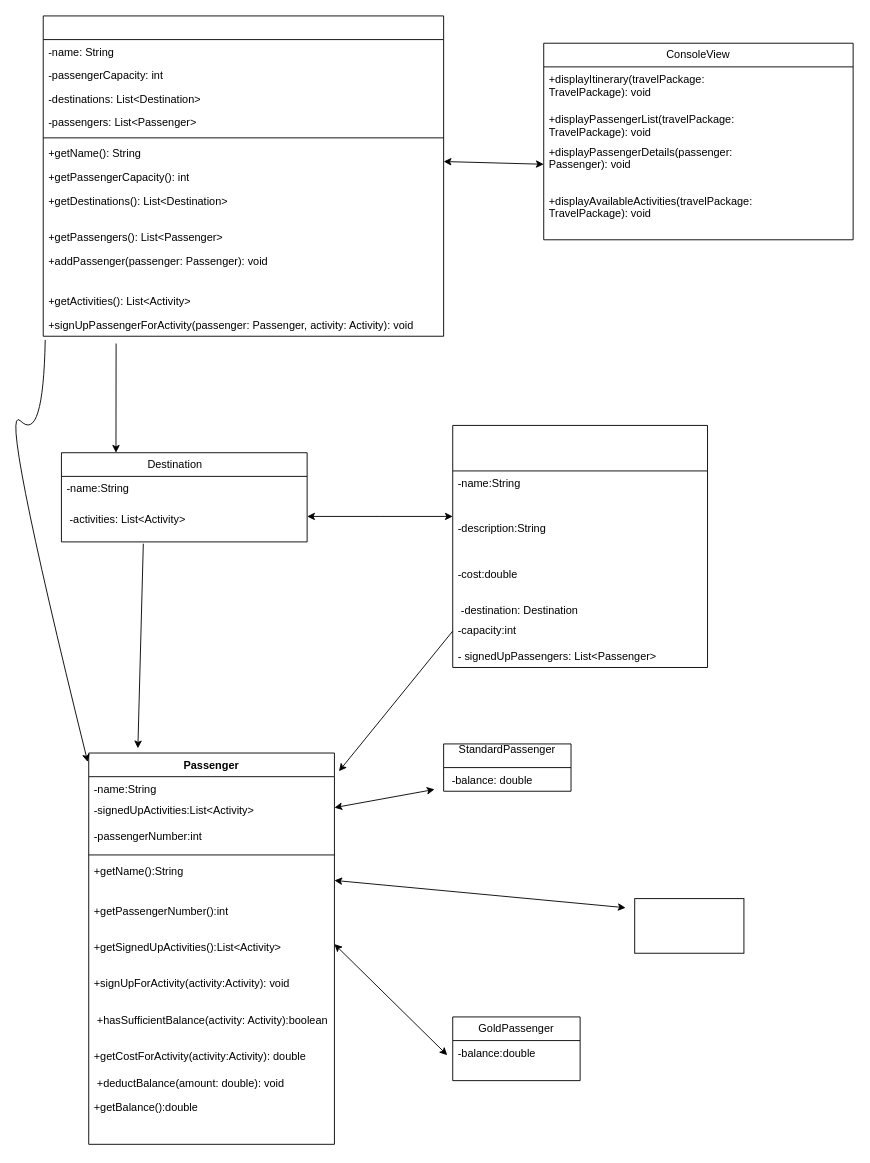
Image size: 870x1163. Some labels were removed from this diagram. The shapes that lost their labels are listed below. From the top down, each one's box as (x1, y1, x2, y2) in pixels, then its label:
(42, 15, 444, 336): TravelPackage
(452, 425, 708, 667): Activity
(634, 898, 744, 953): PremiumPassenger
